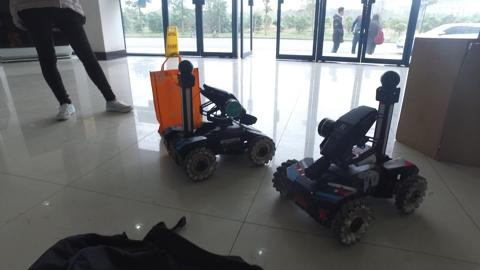box: (398, 36, 479, 168)
chariot: (277, 66, 429, 245), (163, 62, 274, 176)
